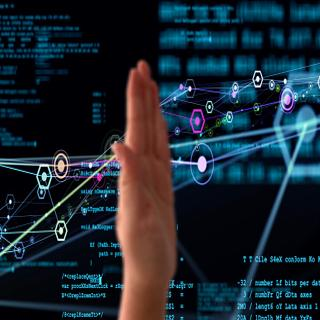Right: (111, 62, 193, 313)
